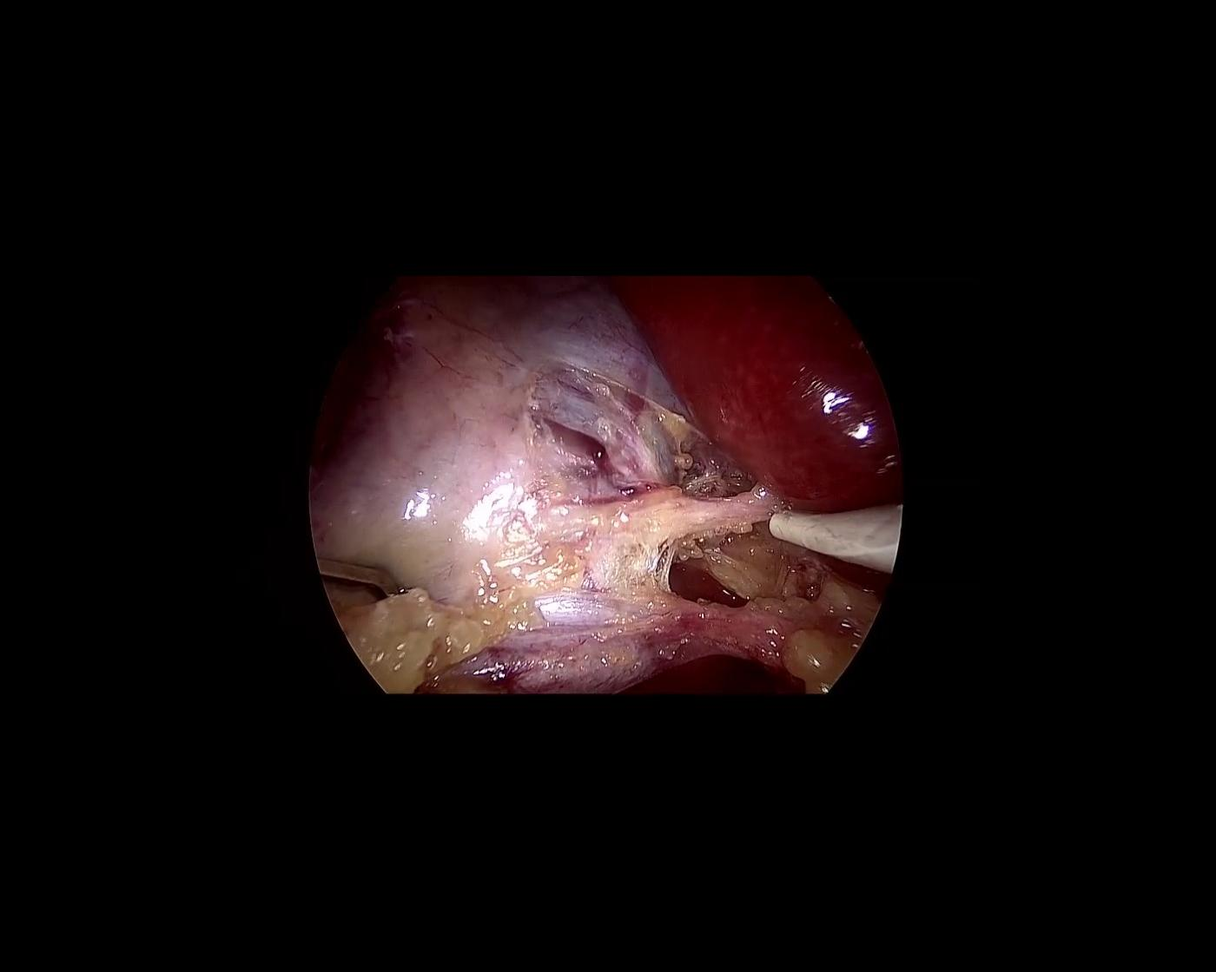Cautery: (764, 482, 903, 571)
Liver: (597, 180, 950, 570)
